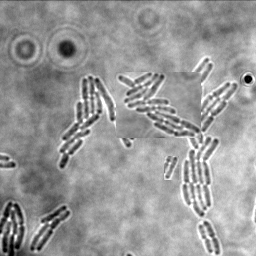Dividing: (204, 219, 222, 255), (199, 223, 215, 253)
Microcolony: (167, 57, 238, 216), (59, 75, 136, 169), (116, 72, 201, 138), (30, 204, 72, 251), (1, 200, 26, 255)
Rod: (164, 156, 179, 180)
